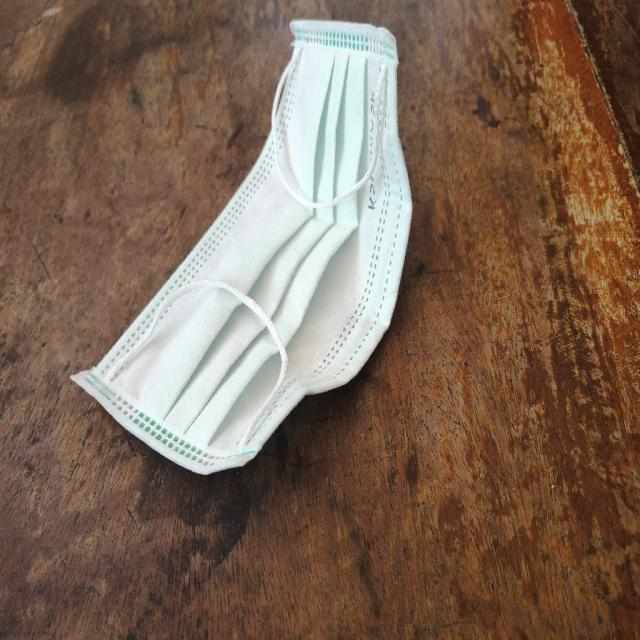non-organic waste: (76, 25, 409, 472)
